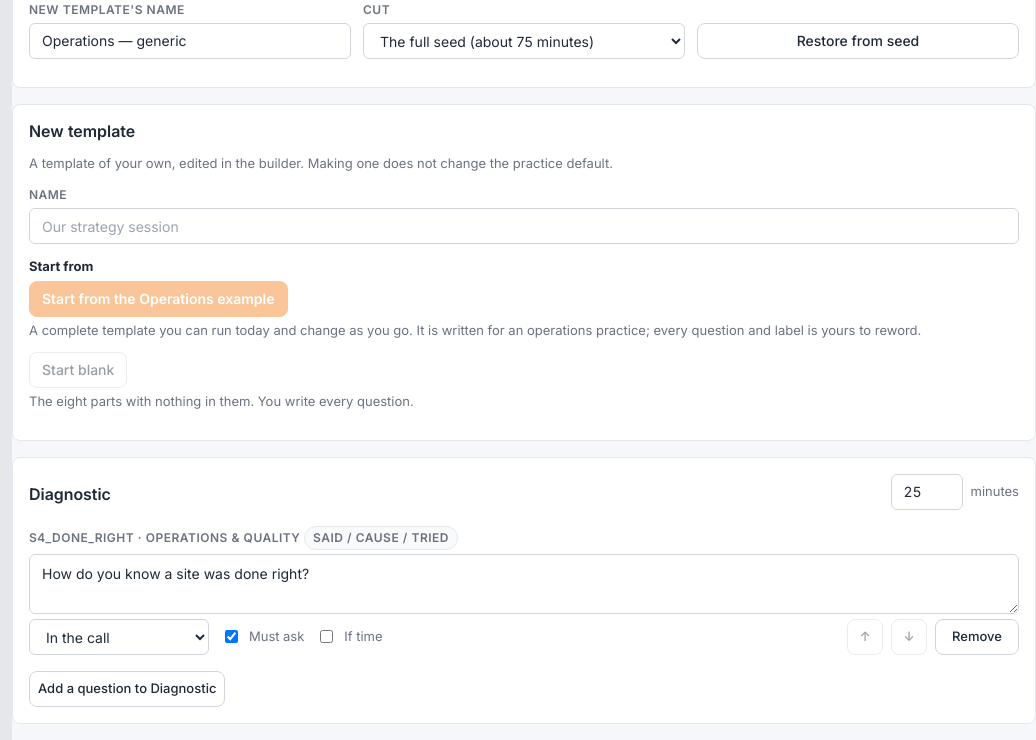
the template editor › edits wording, when it is asked, and must-ask — and says what it cannot touch
(page scrolled)
Replace the text in the text box named "Wording of s4_done_right" with "How do you know last night went well?" at (524, 584), box [29,554,1019,614]
(page scrolled)
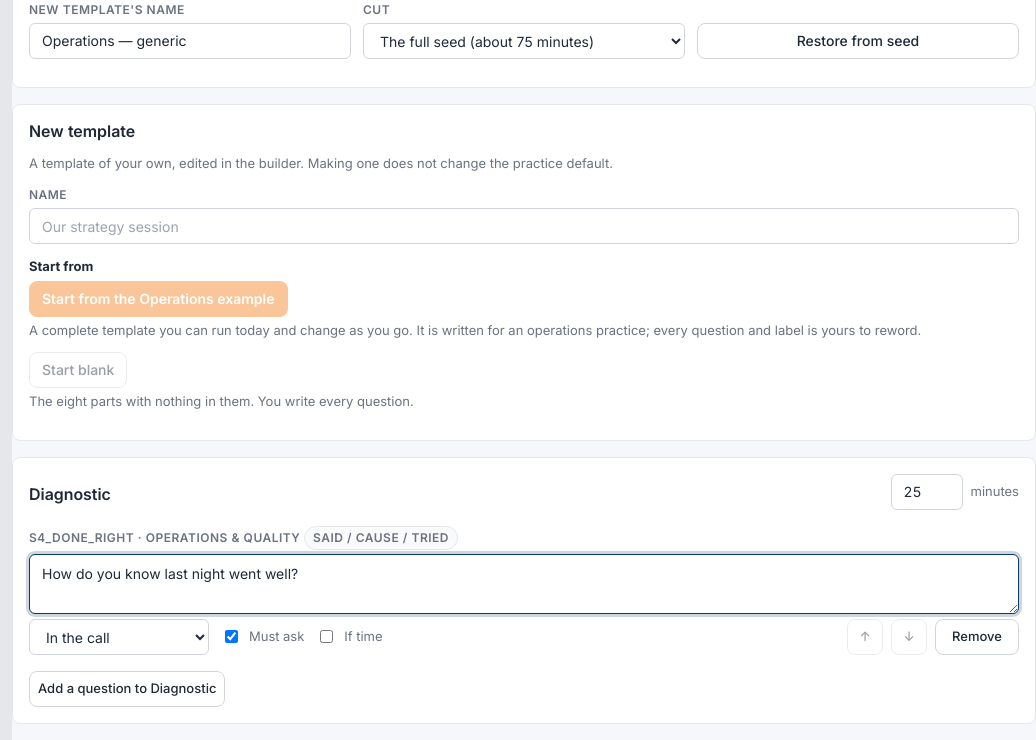
Select "On the pre-call form" in the dropdown named "When to ask s4_done_right" at (119, 636), box [29,618,209,654]
(page scrolled)
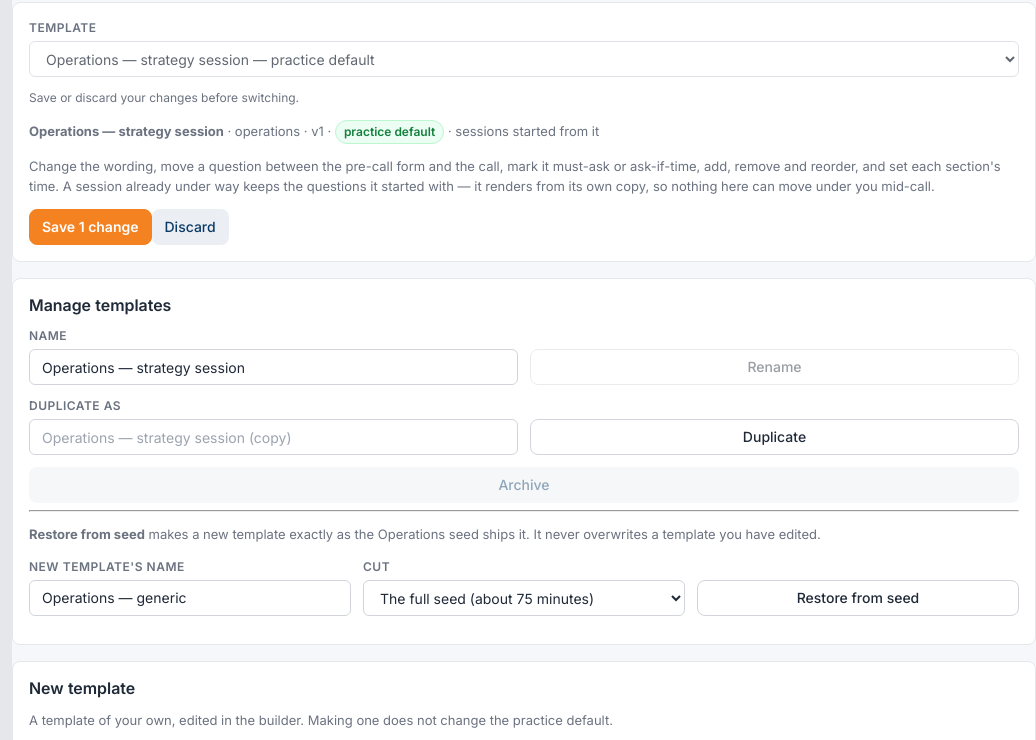
Click the button "Save 1 change" at (90, 227), box [29,209,152,245]
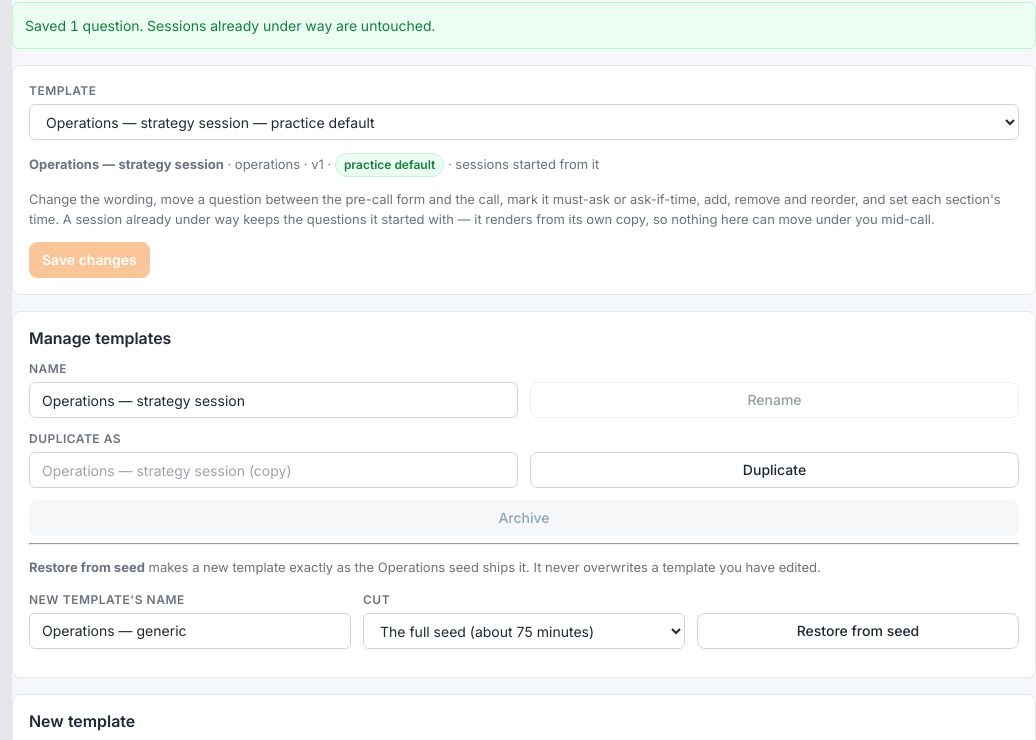
Now the text "Saved 1 question. Sessions already under way are untouched." is shown, box [25,17,435,34]
